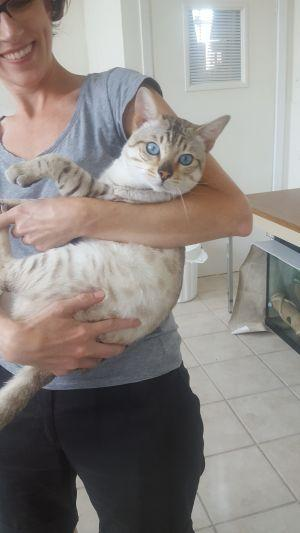bengal: (105, 77, 238, 205)
